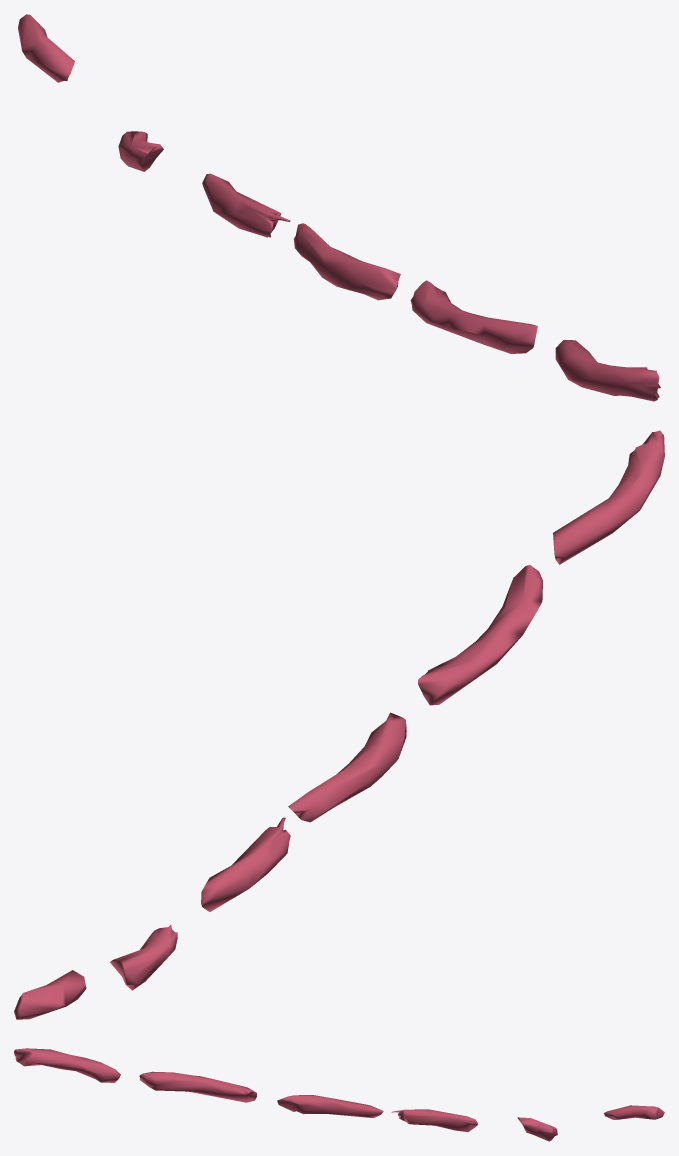
3 views of the same model, one above another, from view 1: azimuth 30°, elevation 25°; view 2: azimuth 150°, elevation 25°; view 3: azimuth 270°, elevation 25° (orthographic). The views are drawn at different scales.
Parts seen in each view (by area): view 1: 右侧腰棘间肌; view 2: 右侧腰棘间肌; view 3: 右侧腰棘间肌.
Boxes of the visible parts, x1=… form: 右侧腰棘间肌: x1=18, y1=14, x2=660, y2=401; 右侧腰棘间肌: x1=14, y1=430, x2=664, y2=1019; 右侧腰棘间肌: x1=14, y1=1048, x2=664, y2=1141.
Bounding box in the file's own units: 0.0129 × 0.0364 × 0.2362.
